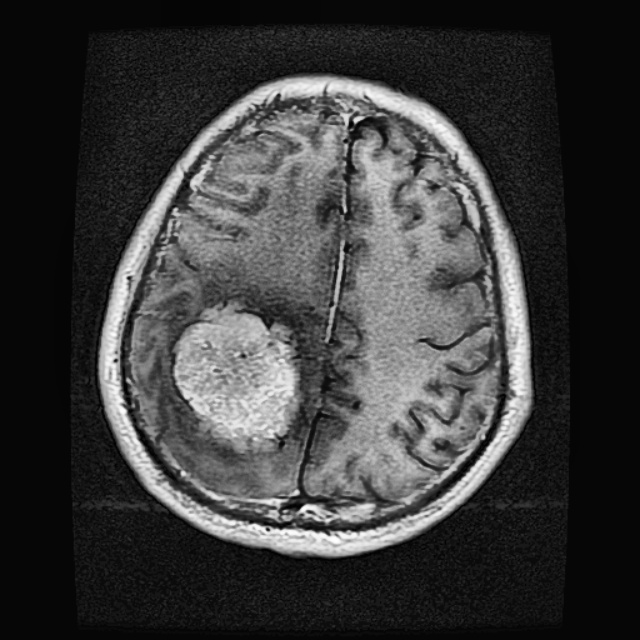Pituitary: (174, 309, 290, 440)
